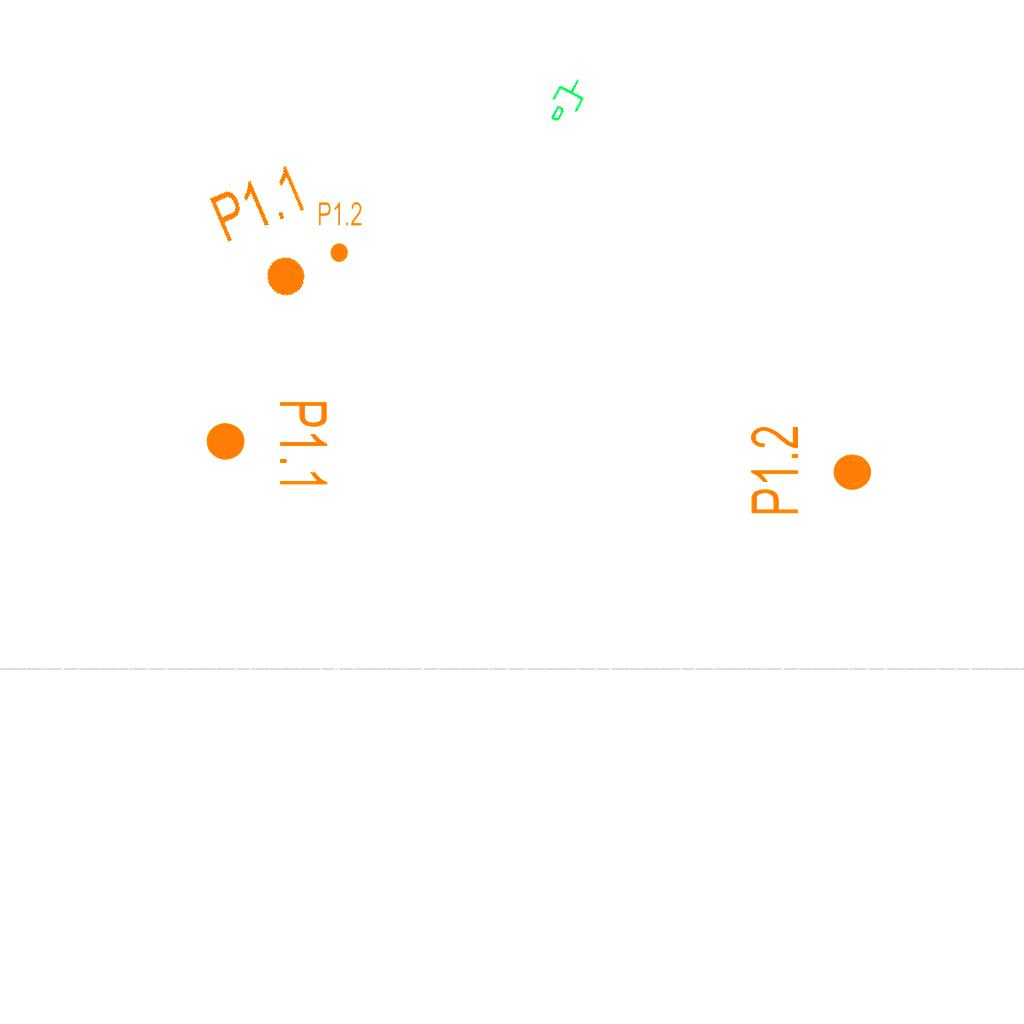Datenanschluss_einfach: (541, 70, 595, 132)
Downlight_LED_Einbauleuchten_Flur: (204, 159, 341, 315), (747, 424, 875, 517), (203, 398, 331, 491), (317, 200, 363, 264)
